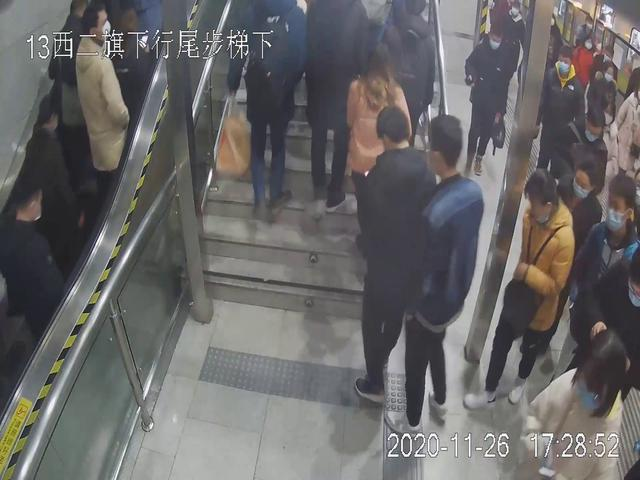person: (474, 165, 571, 403), (351, 109, 428, 404), (417, 108, 486, 429), (552, 177, 640, 389), (219, 1, 313, 199), (66, 1, 136, 191), (460, 19, 514, 180), (537, 45, 585, 189)
